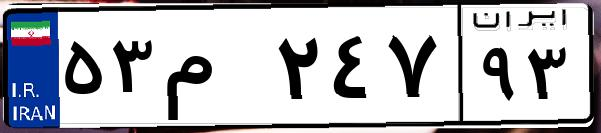2: (270, 28, 330, 110)
3: (525, 38, 570, 115), (110, 28, 158, 98)
4: (330, 28, 385, 110)
5: (57, 26, 110, 100)
7: (385, 28, 445, 110)
9: (475, 38, 525, 113)
م: (158, 20, 270, 120)
